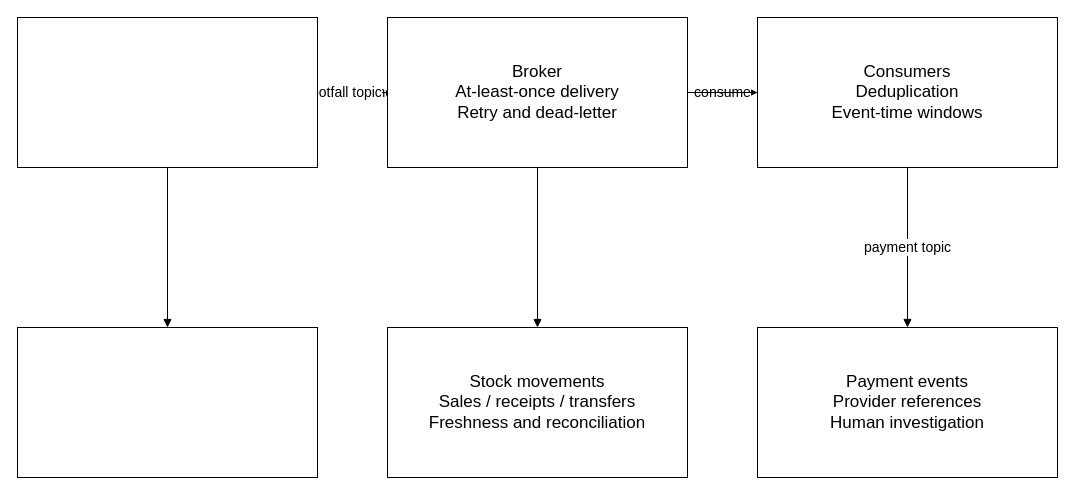
Some shapes in this 1075 by 495 pixel diagram are drawn without their labels. The centre of each missing label's shape, as x and y in pixels:
"Store edge Persist and sequence Footfall without person IDs" goes at (167,92).
"Traffic 5-minute counts Late-correction counter" goes at (167,402).
